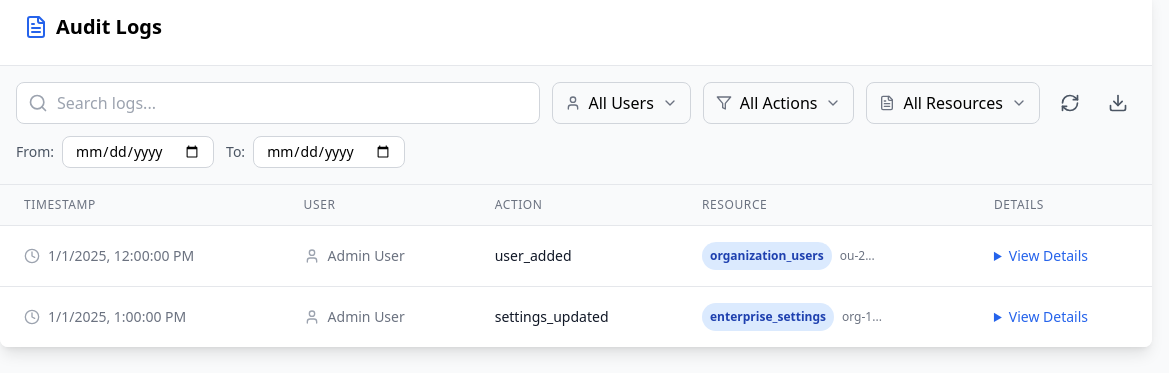
Test: AuditLogViewer › handles search filtering
Expected: the text "user_added" is shown, top-left (471, 226), bottom-right (678, 286)
# Search for 'settings'
Type "settings" into the field with placeholder "Search logs..." at (278, 103), box top-left (16, 82), bottom-right (540, 124)
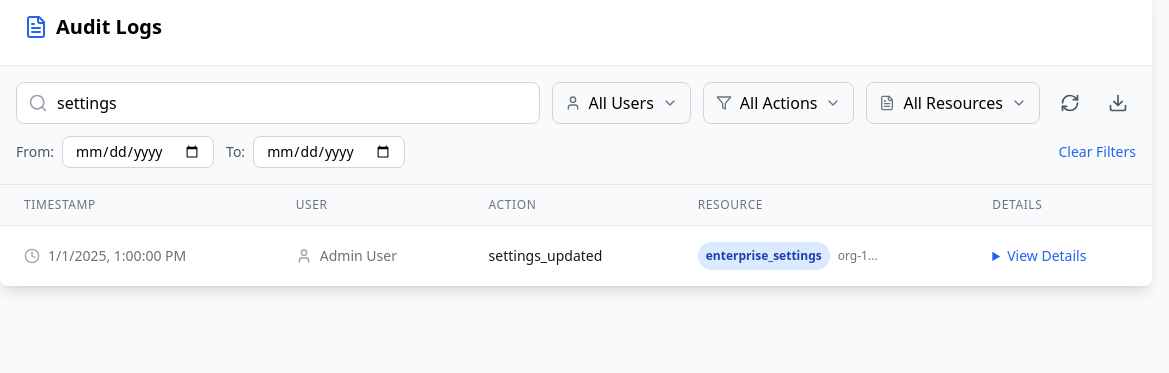
Expected: the text "settings_updated" is shown, top-left (465, 226), bottom-right (674, 286)
Now the text "user_added" is gone
